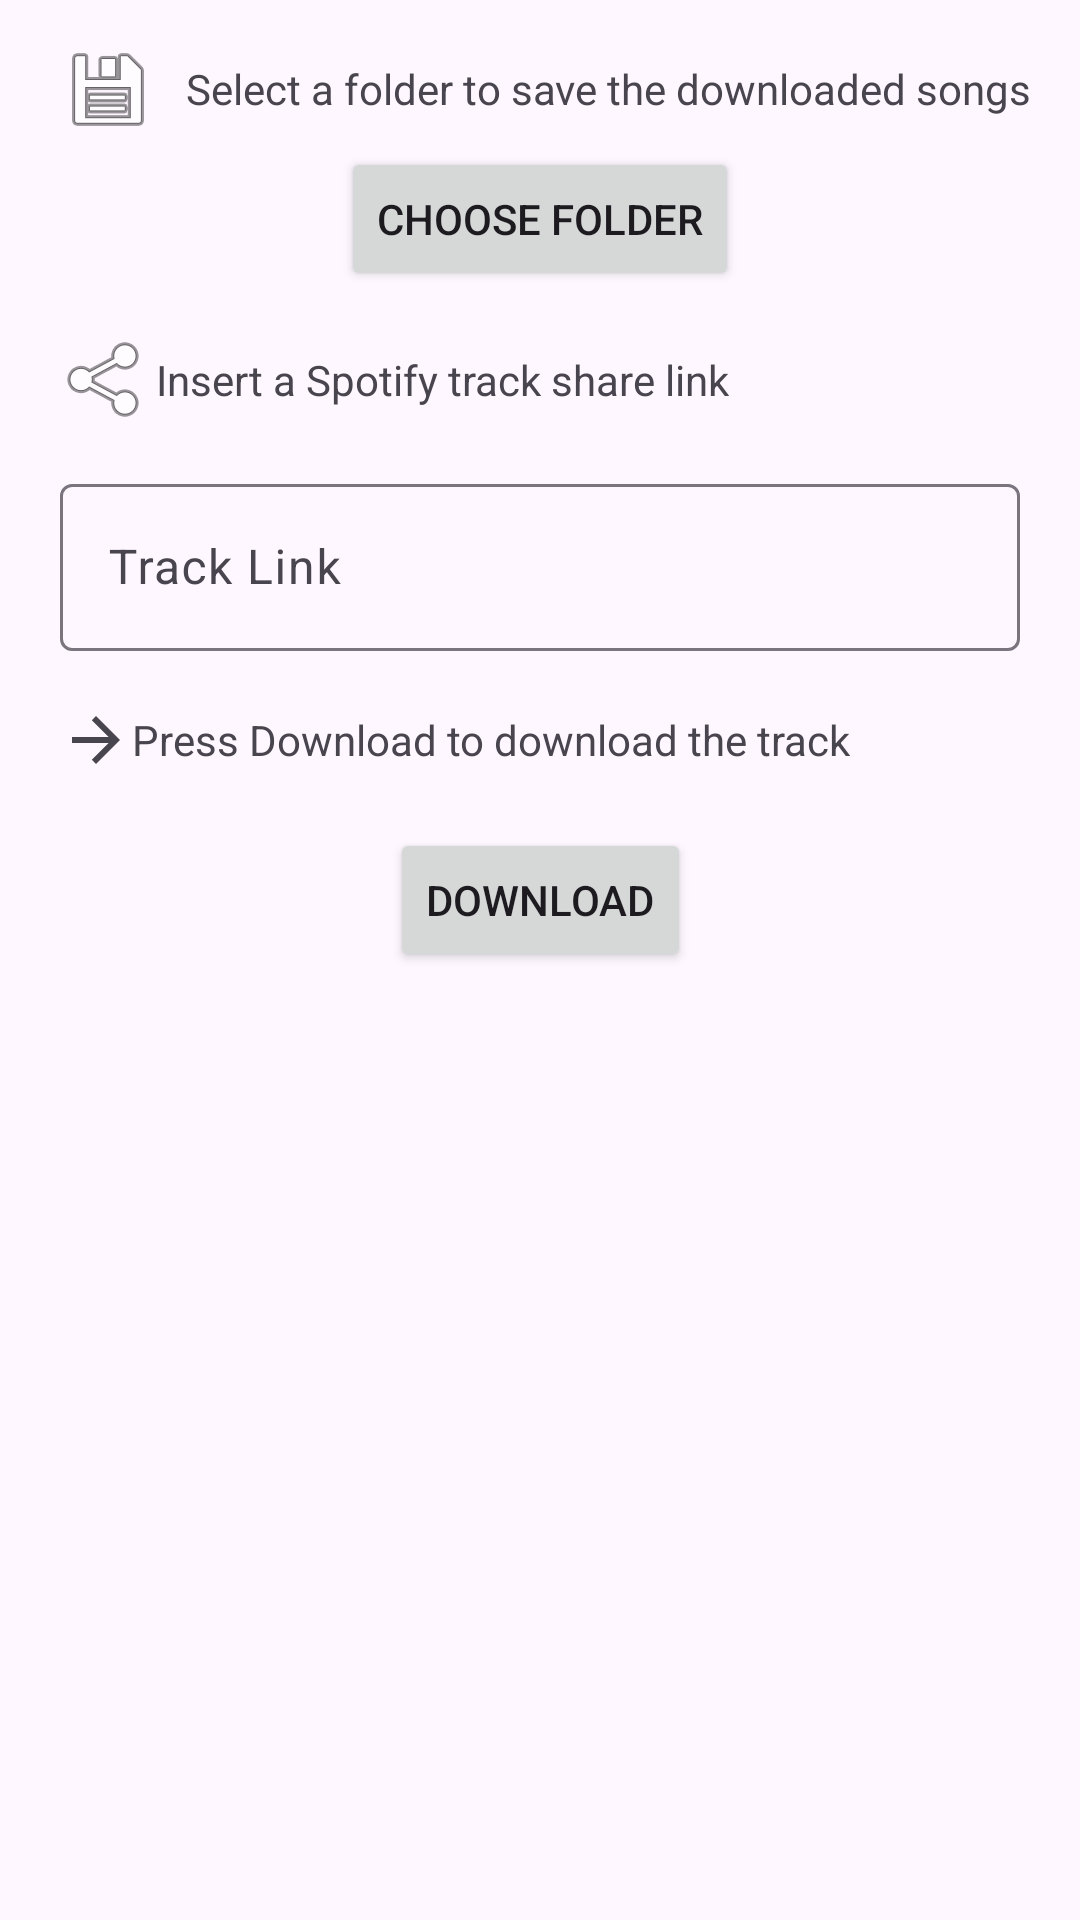

Icons on this 1080px×1920px Android screen, each with its box as BBox(x1, y1, x2, y2):
Storage Icon: BBox(72, 53, 144, 126)
